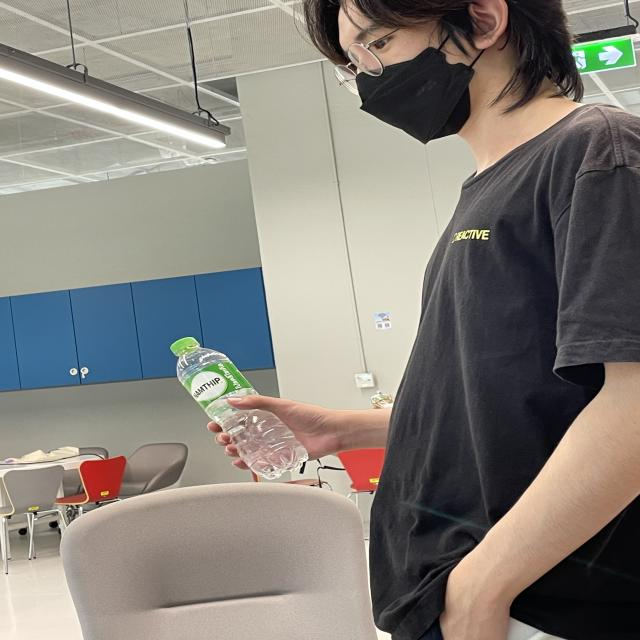bottle: (168, 335, 312, 480)
